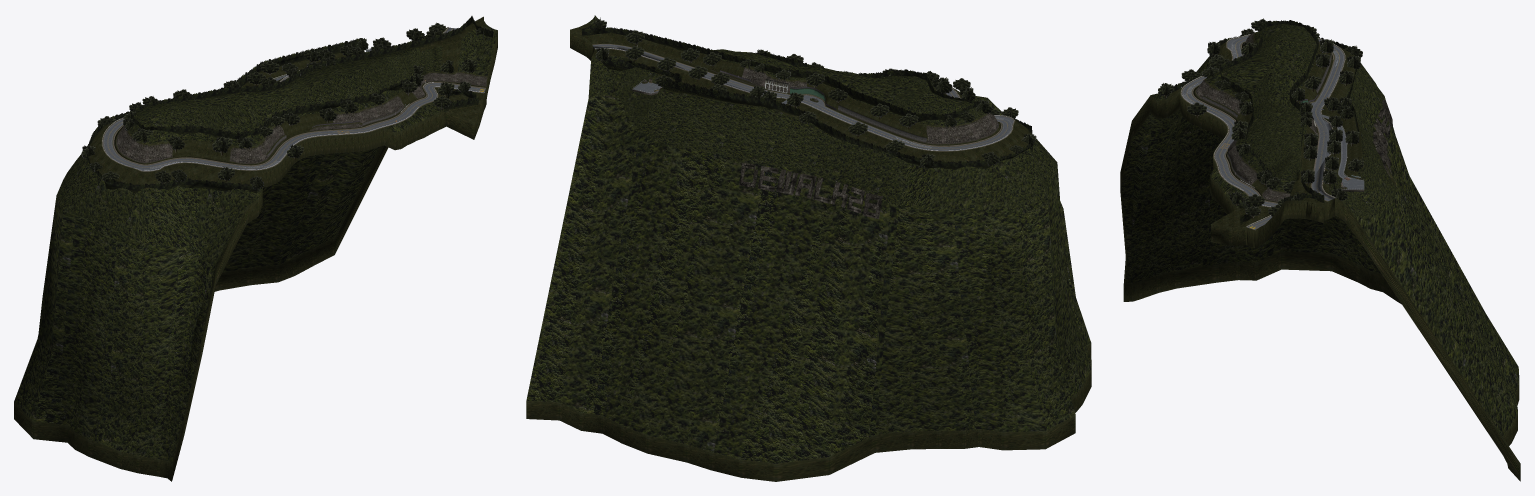
File: akina3.glb
3 views of the same model, side by side, from view 1: azimuth 30°, elevation 25°; view 2: azimuth 150°, elevation 25°; view 3: azimuth 270°, elevation 25° (orthographic). The views are drawn at different scales.
Parts seen in each view (by area): view 1: akina3; view 2: akina3; view 3: akina3.
Part boxes in pixels (x1,y1,x2,y2): akina3: [14, 16, 497, 481]; akina3: [526, 15, 1091, 481]; akina3: [1120, 18, 1520, 481].
Bounding box in the file's own units: 441 × 278 × 316.
Materials: 24 (24 with a texture image).
